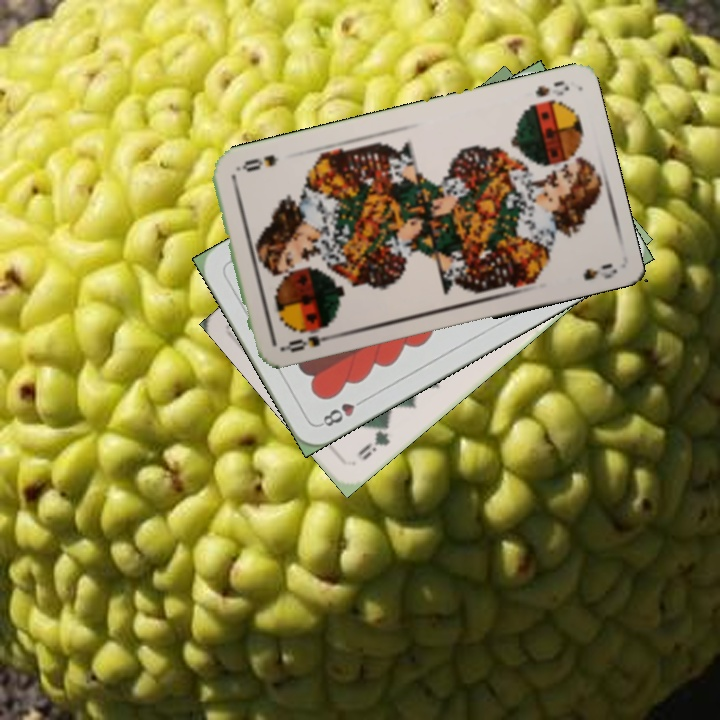G9: (353, 418, 393, 463)
H8: (315, 393, 369, 429)
SO: (277, 331, 335, 355), (531, 76, 572, 100)
